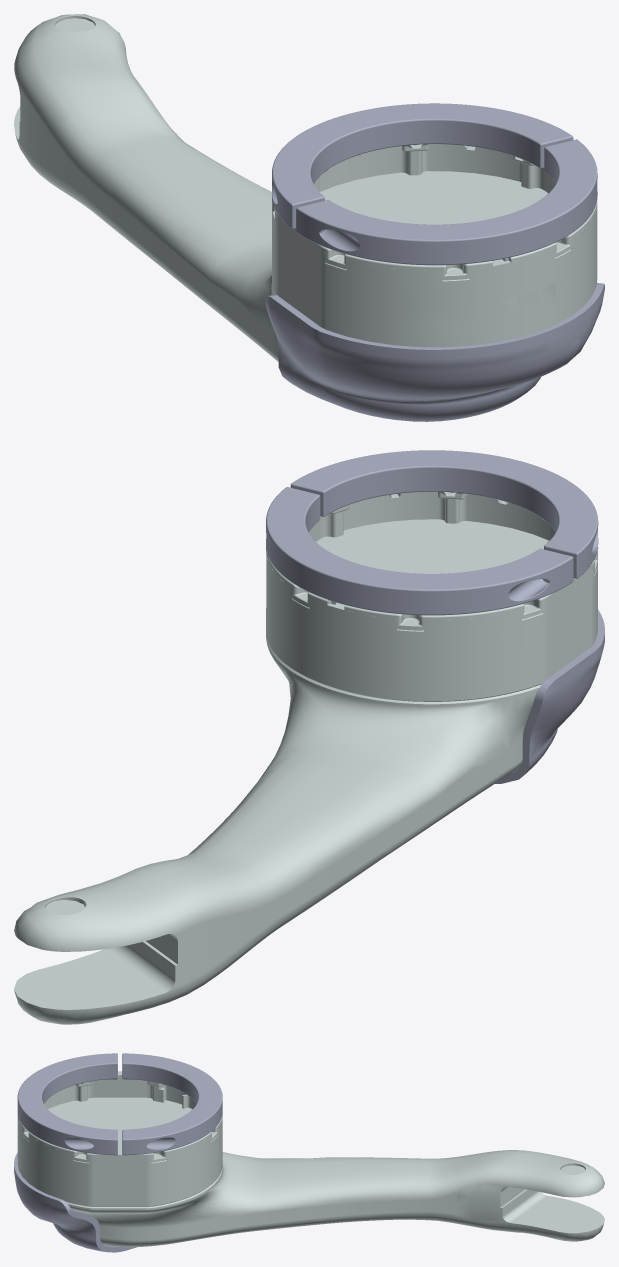
Rendered from thigh_mirror.obj.
3 views of the same model, one above another, from view 1: azimuth 30°, elevation 25°; view 2: azimuth 150°, elevation 25°; view 3: azimuth 270°, elevation 25° (orthographic). The views are drawn at different scales.
Parts seen in each view (by area): view 1: thigh.FR0815; view 2: thigh.FR0815; view 3: thigh.FR0815.
Part boxes in pixels (x1=…): thigh.FR0815: x1=14, y1=14, x2=604, y2=421; thigh.FR0815: x1=14, y1=450, x2=604, y2=1024; thigh.FR0815: x1=14, y1=1053, x2=604, y2=1252.
Bounding box in the file's own units: 0.0969 × 0.0734 × 0.2779.
